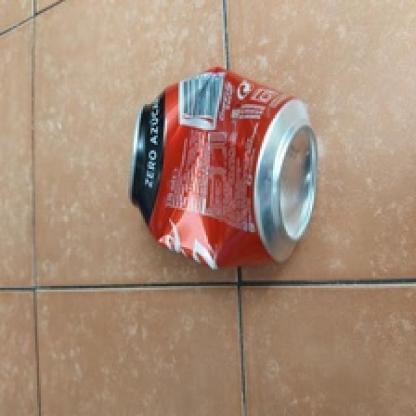Can: (124, 65, 324, 276)
